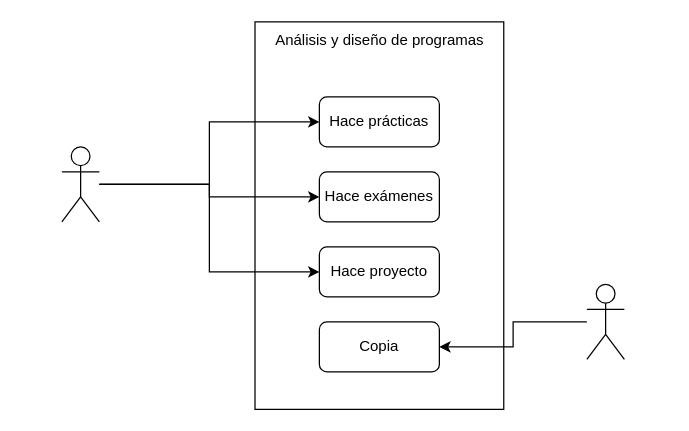
Image size: 689x431. Some labels were removed from this diagram. The box of each missing label's shape, as (x1, y1, x2, y2) in pixels:
Alumno aprobado: (61, 146, 99, 222)
Alumno reprobado: (586, 283, 624, 359)
